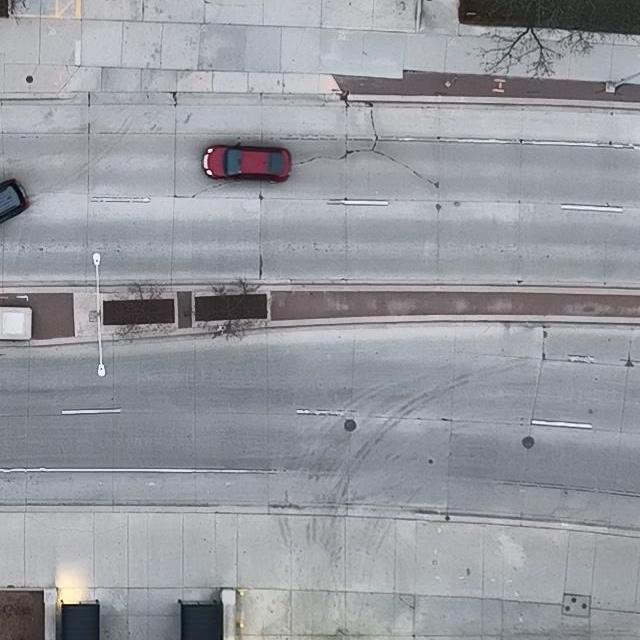car: (202, 141, 292, 183), (0, 178, 30, 224)
